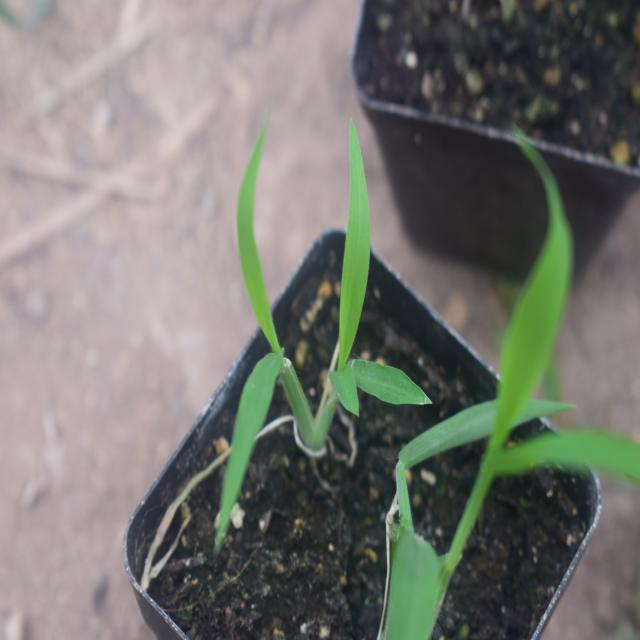crabgrass: (198, 124, 432, 458)
